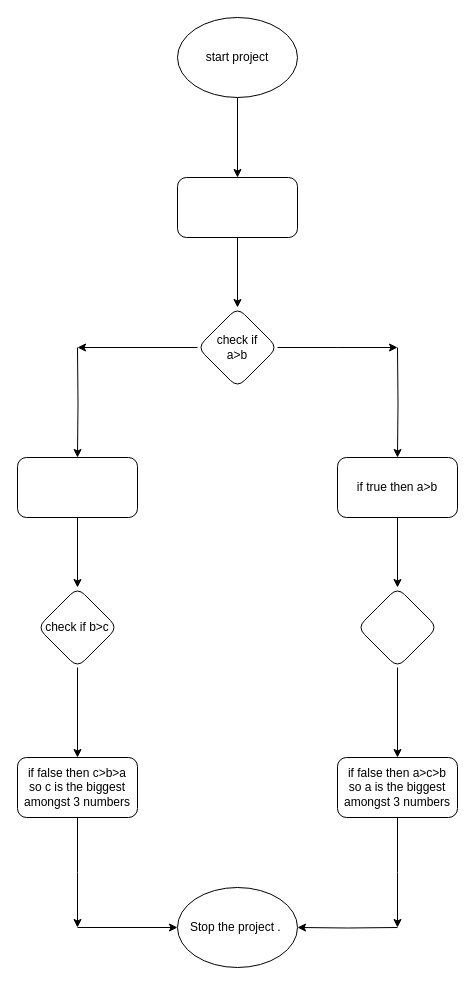
The diagram is 475 pixels wide and 985 high, and some of its shapes have lost their labels. Each missing label, with the box of its shape:
check if a>c: (356, 586, 438, 668)
Get 3 number from user .: (176, 176, 298, 238)
if false then b>a: (16, 456, 138, 518)
